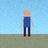person: (20, 10, 34, 36)
